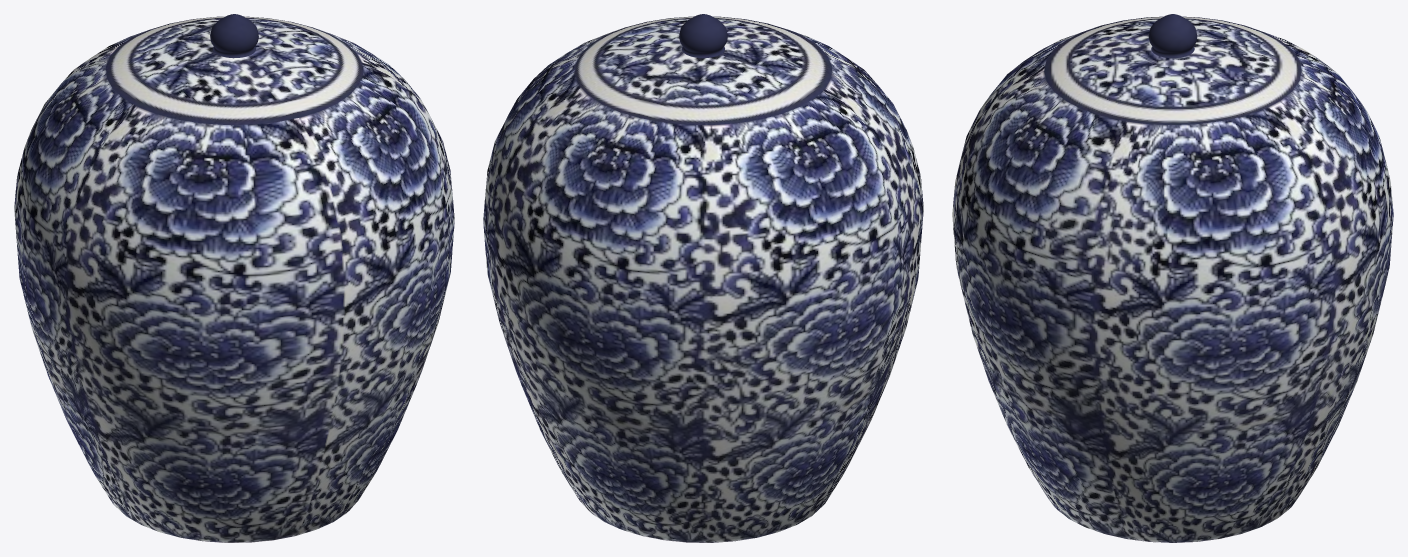
The model's file is buyuk-porselen-kavanoz.glb.
3 renders of one model, left to right at view 1: azimuth 30°, elevation 25°; view 2: azimuth 150°, elevation 25°; view 3: azimuth 270°, elevation 25°, orthographic.
Parts seen in each view (by area): view 1: Jar; view 2: Jar; view 3: Jar.
Part boxes in pixels (x1=…): Jar: x1=14, y1=14, x2=454, y2=542; Jar: x1=483, y1=14, x2=923, y2=542; Jar: x1=952, y1=14, x2=1393, y2=542.
Size of the model in its own units: 0.2551 by 0.3057 by 0.2551.
Materials: 1 (1 with a texture image).
